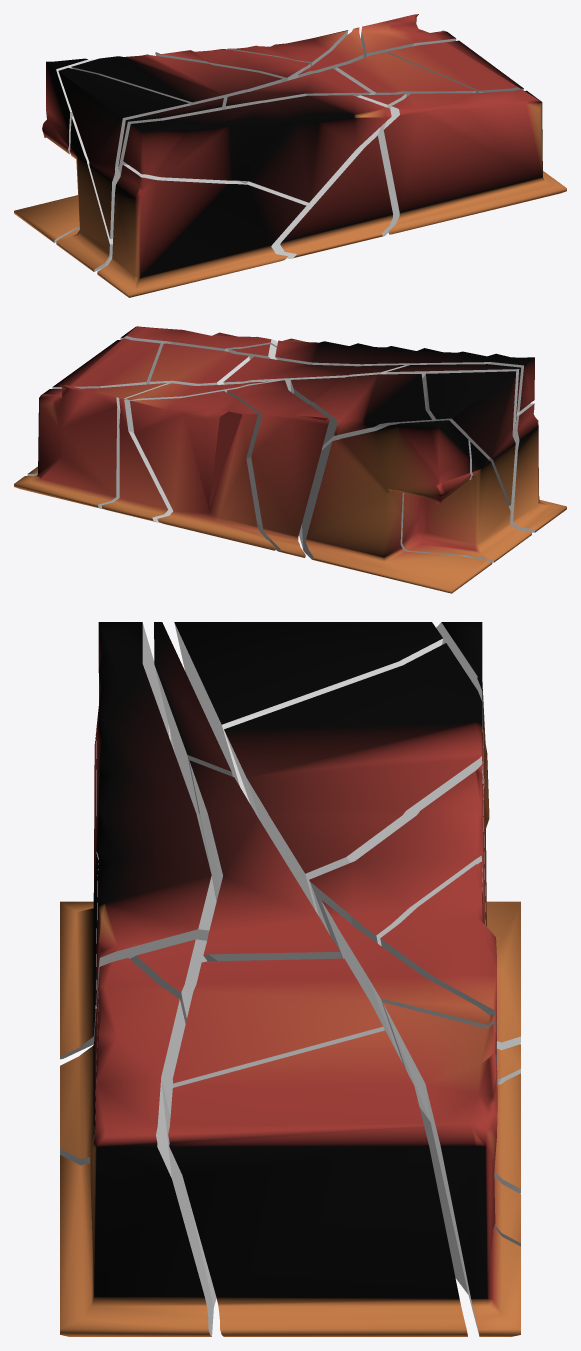
The model's file is Convenience Stores(2).glb.
The picture shows the model from 3 angles, top to bottom: view 1: azimuth 30°, elevation 25°; view 2: azimuth 150°, elevation 25°; view 3: azimuth 270°, elevation 25°; orthographic projection. The views are drawn at different scales.
Visible parts, largest first — view 1: Root.004, Root.008, Root, Root.012, Root.001, Root.009, Root.013, Root.005, Root.014, Root.006, Root.010, Root.007 (+4 smaller); view 2: Root.013, Root.015, Root.007, Root.003, Root.005, Root.001, Root.009, Root.008, Root.011, Root, Root.014, Root.006 (+4 smaller); view 3: Root.014, Root.004, Root.009, Root.008, Root.003, Root.001, Root.006, Root.010, Root.007, Root.015, Root.011, Root.012 (+3 smaller).
Boxes of the visible parts, x1=… form: Root.004: x1=383, y1=89, x2=566, y2=234; Root.008: x1=123, y1=95, x2=391, y2=202; Root: x1=97, y1=164, x2=306, y2=297; Root.012: x1=246, y1=93, x2=406, y2=258; Root.001: x1=58, y1=68, x2=190, y2=238; Root.009: x1=71, y1=54, x2=282, y2=109; Root.013: x1=14, y1=58, x2=94, y2=242; Root.005: x1=56, y1=116, x2=112, y2=271; Root.014: x1=386, y1=40, x2=523, y2=93; Root.006: x1=335, y1=52, x2=475, y2=96; Root.010: x1=225, y1=68, x2=370, y2=183; Root.007: x1=155, y1=49, x2=310, y2=82; Root.013: x1=299, y1=420, x2=492, y2=593; Root.015: x1=130, y1=391, x2=275, y2=550; Root.007: x1=227, y1=380, x2=329, y2=557; Root.003: x1=14, y1=383, x2=167, y2=509; Root.005: x1=299, y1=441, x2=531, y2=562; Root.001: x1=422, y1=371, x2=516, y2=505; Root.009: x1=290, y1=374, x2=431, y2=449; Root.008: x1=275, y1=338, x2=534, y2=411; Root.011: x1=101, y1=381, x2=267, y2=522; Root: x1=508, y1=403, x2=566, y2=532; Root.014: x1=27, y1=338, x2=160, y2=475; Root.006: x1=149, y1=343, x2=250, y2=385; Root.014: x1=168, y1=1030, x2=467, y2=1336; Root.004: x1=60, y1=958, x2=216, y2=1336; Root.009: x1=224, y1=643, x2=483, y2=915; Root.008: x1=95, y1=622, x2=216, y2=1006; Root.003: x1=383, y1=1002, x2=520, y2=1336; Root.001: x1=174, y1=622, x2=443, y2=803; Root.006: x1=172, y1=958, x2=384, y2=1087; Root.010: x1=189, y1=760, x2=340, y2=961; Root.007: x1=309, y1=764, x2=520, y2=1084; Root.015: x1=380, y1=861, x2=520, y2=1193; Root.011: x1=320, y1=899, x2=520, y2=1246; Root.012: x1=60, y1=939, x2=206, y2=1165.
Size of the model in its own units: 18.4 by 6.28 by 8.39.
